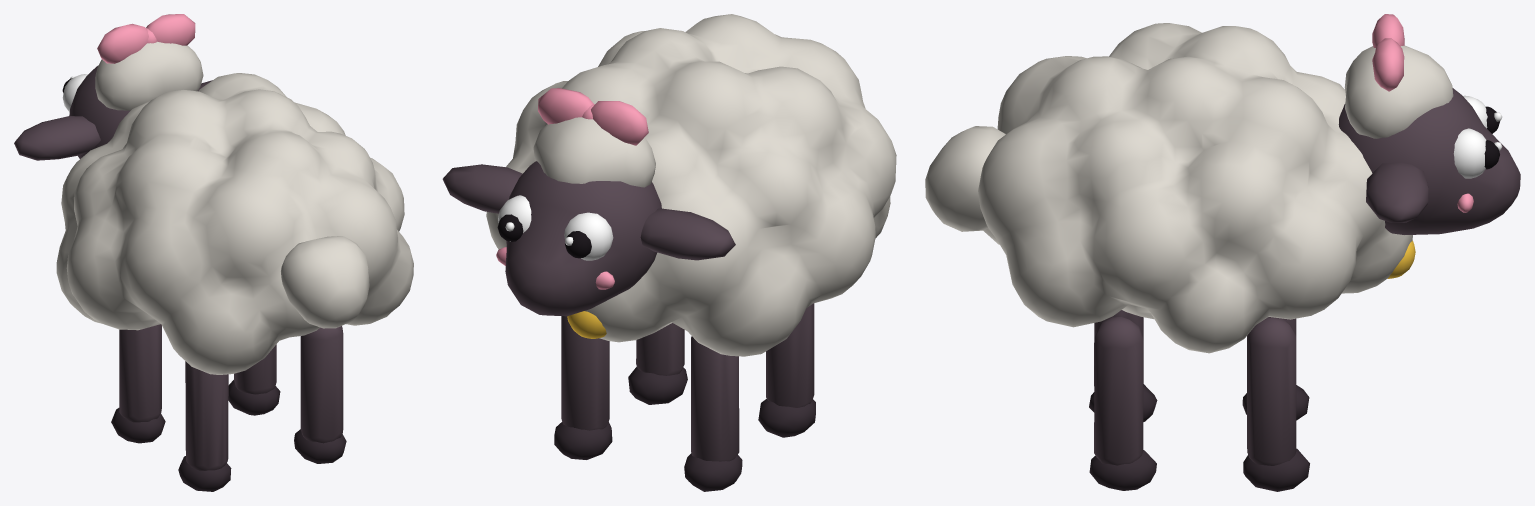
The model's file is black_sheep.glb.
3 renders of one model, left to right at view 1: azimuth 30°, elevation 25°; view 2: azimuth 150°, elevation 25°; view 3: azimuth 270°, elevation 25°, orthographic. The views are drawn at different scales.
Visible parts, largest first — view 1: Body, Head, Tail, LegBR, LegBL, LegFL, EarL, LegFR; view 2: Body, Head, LegFL, LegFR, LegBL, LegBR, EarL, EarR; view 3: Body, Head, LegFR, LegBR, Tail, EarR, LegBL.
Part boxes in pixels (x1,y1,x2,y2): Body: (56, 73, 413, 374); Head: (62, 14, 203, 158); Tail: (281, 236, 369, 328); LegBR: (294, 326, 346, 463); LegBL: (178, 361, 231, 491); LegFL: (111, 324, 165, 443); EarL: (14, 116, 100, 160); LegFR: (228, 344, 280, 415); Body: (486, 14, 896, 356); Head: (496, 88, 661, 316); LegFL: (684, 336, 742, 491); LegFR: (554, 316, 612, 459); LegBL: (758, 303, 815, 437); LegBR: (628, 323, 687, 404); EarL: (640, 208, 735, 260); EarR: (442, 164, 522, 213); Body: (978, 23, 1415, 353); Head: (1338, 14, 1520, 234); LegFR: (1243, 317, 1309, 491); LegBR: (1089, 317, 1156, 490); Tail: (925, 126, 1005, 231); EarR: (1366, 162, 1428, 222); LegBL: (1089, 310, 1157, 421).
Size of the model in its own units: 0.9007 by 1.05 by 1.32.
